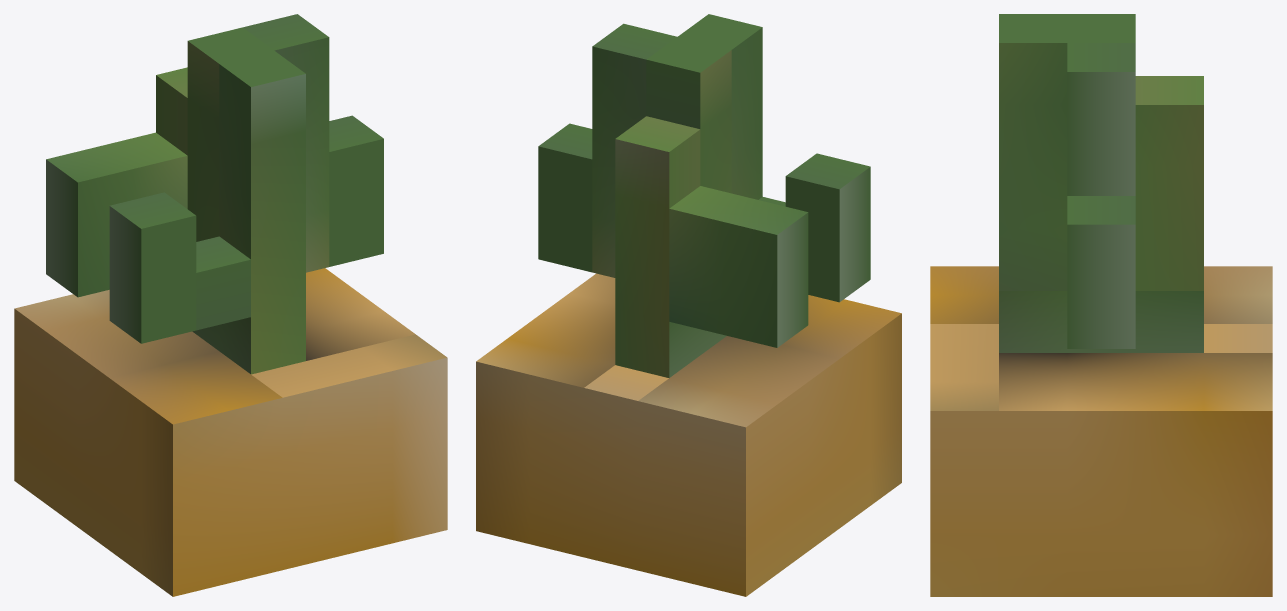
Rendered from PlantCactusSmallYellowPot_00.obj.
3 views of the same model, side by side, from view 1: azimuth 30°, elevation 25°; view 2: azimuth 150°, elevation 25°; view 3: azimuth 270°, elevation 25° (orthographic). The views are drawn at different scales.
Parts seen in each view (by area): view 1: PlantCactusSmallYellowPot_00; view 2: PlantCactusSmallYellowPot_00; view 3: PlantCactusSmallYellowPot_00.
Boxes of the visible parts, <box> form: PlantCactusSmallYellowPot_00: <box>14,14,447,596</box>; PlantCactusSmallYellowPot_00: <box>476,14,901,596</box>; PlantCactusSmallYellowPot_00: <box>930,14,1272,596</box>.
Bounding box in the file's own units: 0.25 × 0.4 × 0.25.
